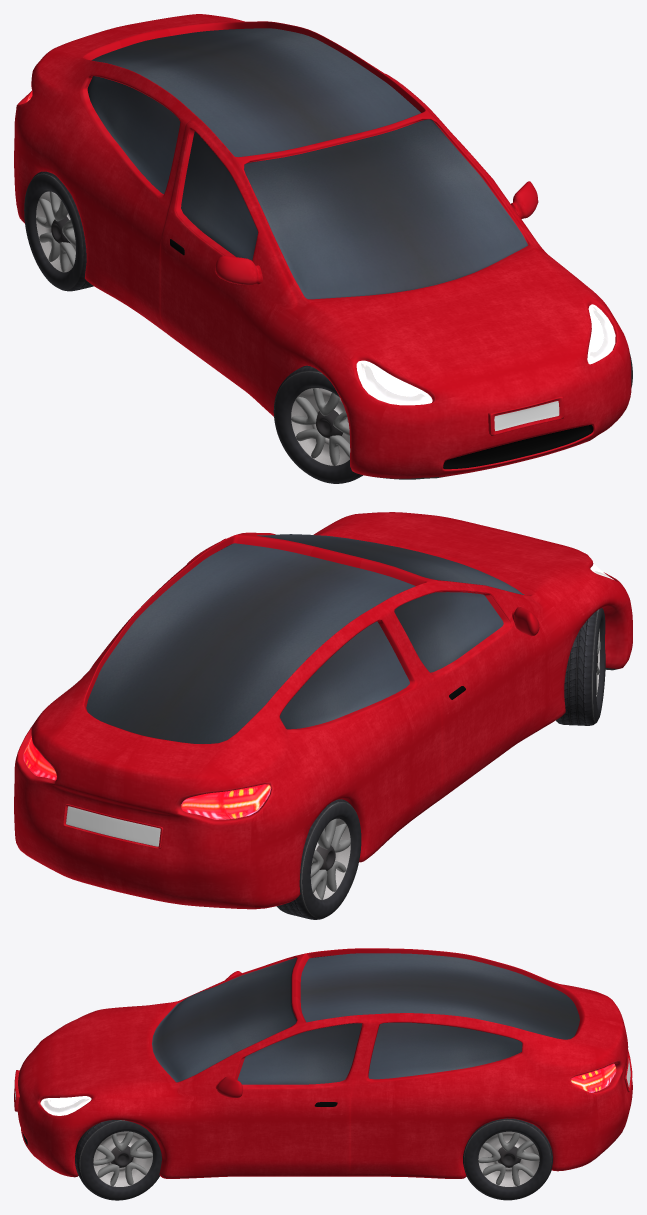
File: electric.glb
3 views of the same model, one above another, from view 1: azimuth 30°, elevation 25°; view 2: azimuth 150°, elevation 25°; view 3: azimuth 270°, elevation 25° (orthographic). The views are drawn at different scales.
Visible parts, largest first — view 1: Cube; view 2: Cube; view 3: Cube.
Boxes of the visible parts, box(x1,y1,x2,y2) form: Cube: box(14, 14, 632, 483); Cube: box(14, 512, 632, 919); Cube: box(14, 948, 632, 1200).
Size of the model in its own units: 1.2 by 0.8374 by 2.74.
Materials: 7 (5 with a texture image).
